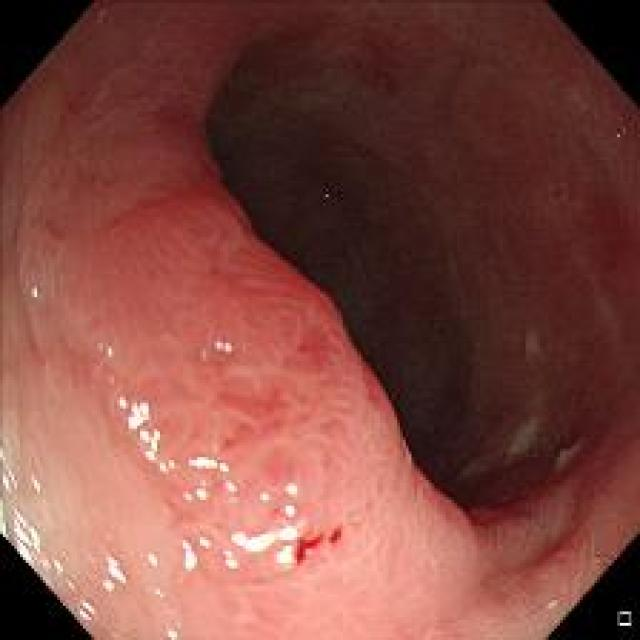contrast: (218, 50, 592, 510)
specularity: (116, 388, 162, 469), (229, 525, 298, 552), (14, 509, 41, 566), (100, 555, 125, 590), (188, 456, 230, 474), (0, 450, 18, 490), (179, 540, 196, 571), (75, 596, 95, 620), (274, 545, 294, 565), (222, 548, 240, 570), (1, 498, 9, 538), (41, 555, 61, 571), (28, 472, 41, 492), (211, 339, 231, 351), (192, 486, 209, 500), (158, 459, 176, 472), (284, 481, 298, 496), (281, 504, 298, 516), (222, 480, 238, 492), (146, 552, 158, 568), (65, 575, 75, 594), (162, 628, 179, 639), (29, 285, 41, 300), (198, 535, 211, 548), (152, 585, 164, 599), (105, 345, 115, 359), (182, 489, 192, 501), (259, 492, 270, 501), (96, 341, 104, 351)
